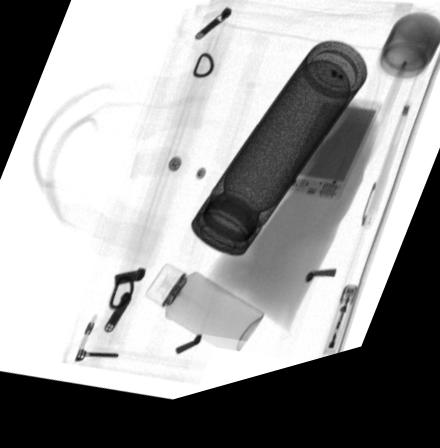Lighter: (323, 303, 359, 373)
Powerbank: (275, 110, 383, 221)
Sprayer: (144, 271, 264, 368)
